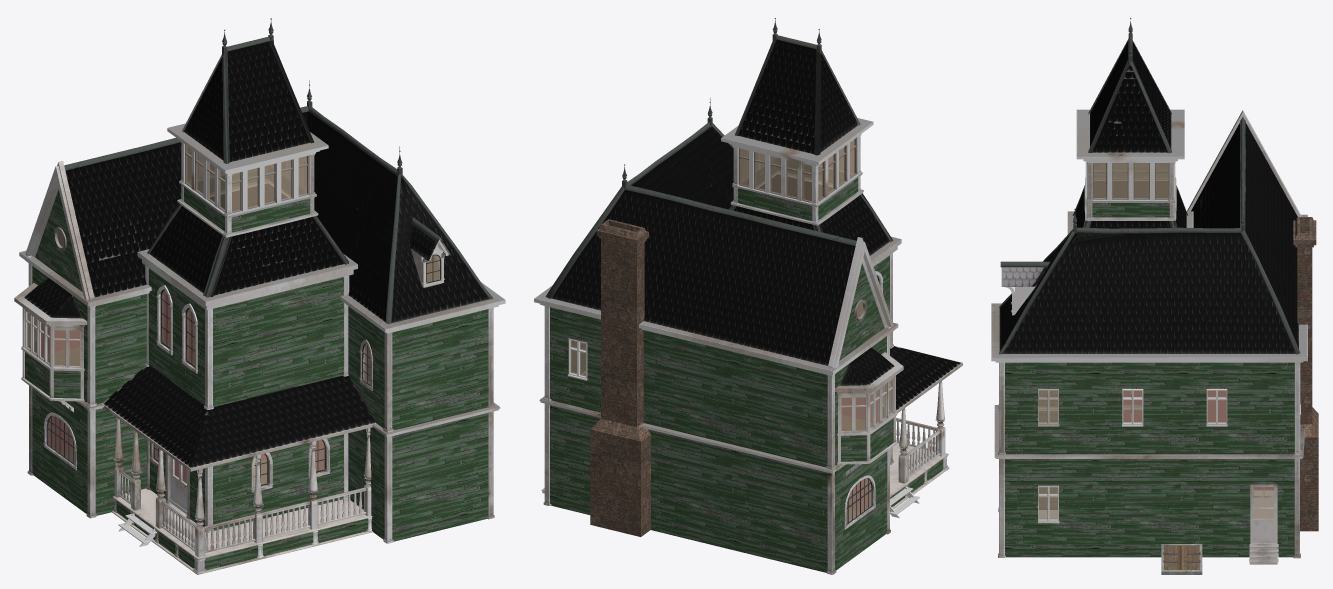
File: victorian-green-y270.glb
3 renders of one model, left to right at view 1: azimuth 30°, elevation 25°; view 2: azimuth 150°, elevation 25°; view 3: azimuth 270°, elevation 25°, orthographic. The views are drawn at different scales.
Parts seen in each view (by area): view 1: g (×46); view 2: g (×33); view 3: g (×30).
Part boxes in pixels (x1,y1,x2,y2): g (×46): [14, 36, 505, 574]; g (×33): [534, 35, 960, 574]; g (×30): [991, 35, 1318, 574].
Size of the model in its own units: 11.06 by 14 by 9.12.
Materials: 22 (22 with a texture image).
